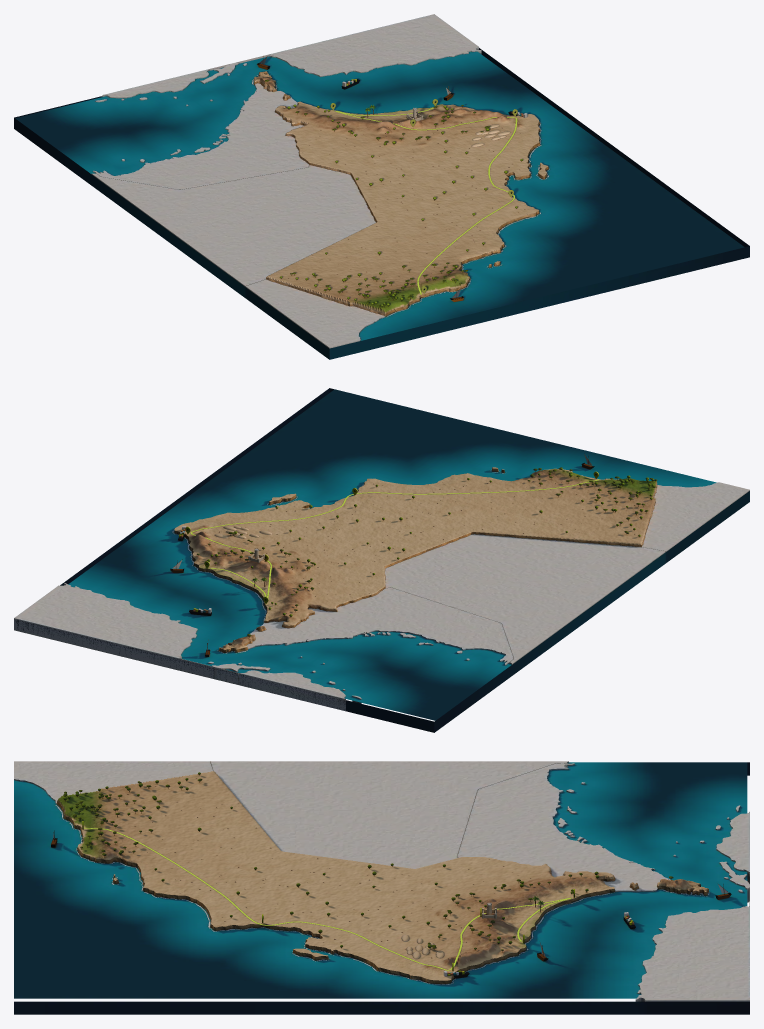
The model's file is oman-map.glb.
3 renders of one model, top to bottom at view 1: azimuth 30°, elevation 25°; view 2: azimuth 150°, elevation 25°; view 3: azimuth 270°, elevation 25°, orthographic. The views are drawn at different scales.
Visible parts, largest first — view 1: static_sea, static_neighbours, static_terrain, static_landmarks, static_plinth, route_line; view 2: static_sea, static_neighbours, static_terrain, static_landmarks, static_plinth, route_line; view 3: static_sea, static_neighbours, static_terrain, static_landmarks, static_plinth, route_line.
Boxes of the visible parts, x1,y1,x2,y2 form: static_sea: (14, 48, 749, 359); static_neighbours: (91, 14, 481, 348); static_terrain: (254, 71, 547, 313); static_landmarks: (257, 56, 541, 307); static_plinth: (254, 72, 548, 316); route_line: (335, 107, 517, 294); static_sea: (15, 388, 749, 732); static_neighbours: (14, 482, 749, 711); static_terrain: (174, 467, 657, 649); static_landmarks: (170, 454, 657, 656); static_plinth: (174, 467, 657, 652); route_line: (190, 479, 599, 597); static_sea: (14, 762, 749, 1014); static_neighbours: (14, 761, 749, 1001); static_terrain: (57, 771, 708, 980); static_landmarks: (51, 772, 731, 978); static_plinth: (57, 801, 708, 983); route_line: (84, 827, 570, 970).
Size of the model in its own units: 935 by 67.14 by 1216.
12 materials, 11 textured.
